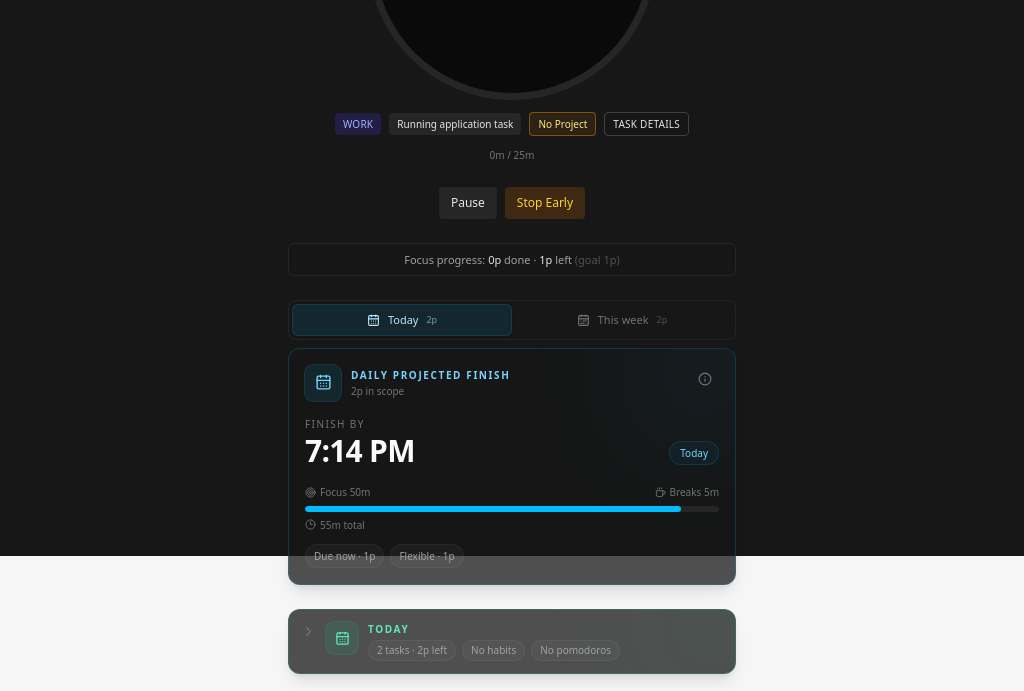
Scenario: TimerPanel today surface › opens details for a selected today task even while another task is running
The image size is (1024, 691).
(page scrolled)
Expected: the text "2 tasks · 2p left" is shown, x1=368 y1=640 x2=456 y2=661
Click the button "Today 2 tasks · 2p left No habits No pomodoros" at (512, 641), box x1=289 y1=610 x2=735 y2=673
(page scrolled)
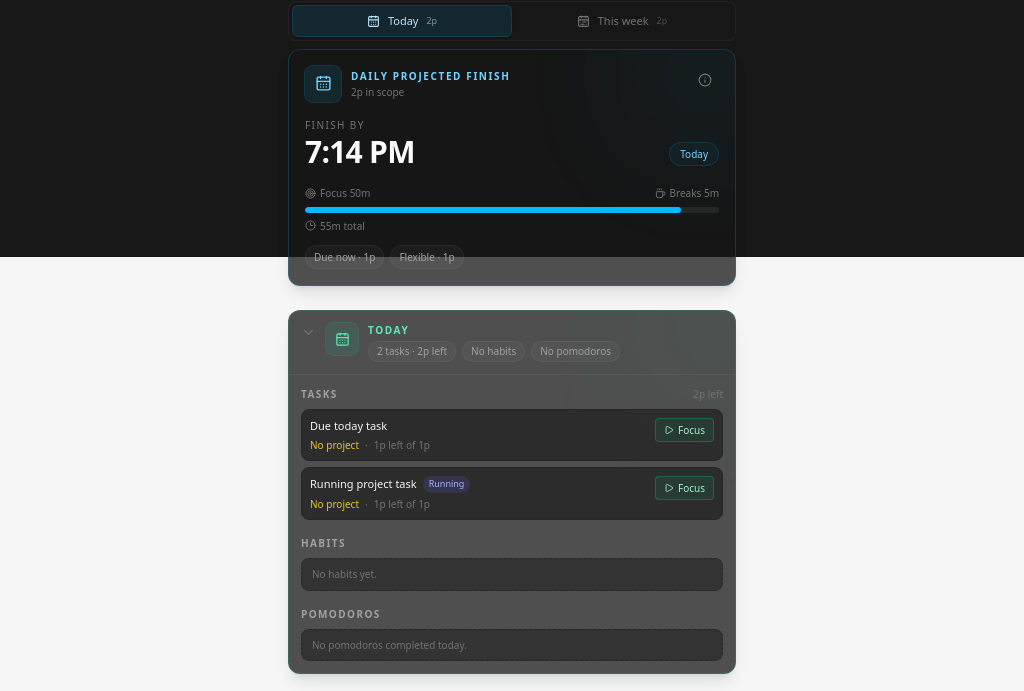
Click the button with aria-label "Select Due today task" at (349, 425), box x1=310 y1=418 x2=647 y2=452
(page scrolled)
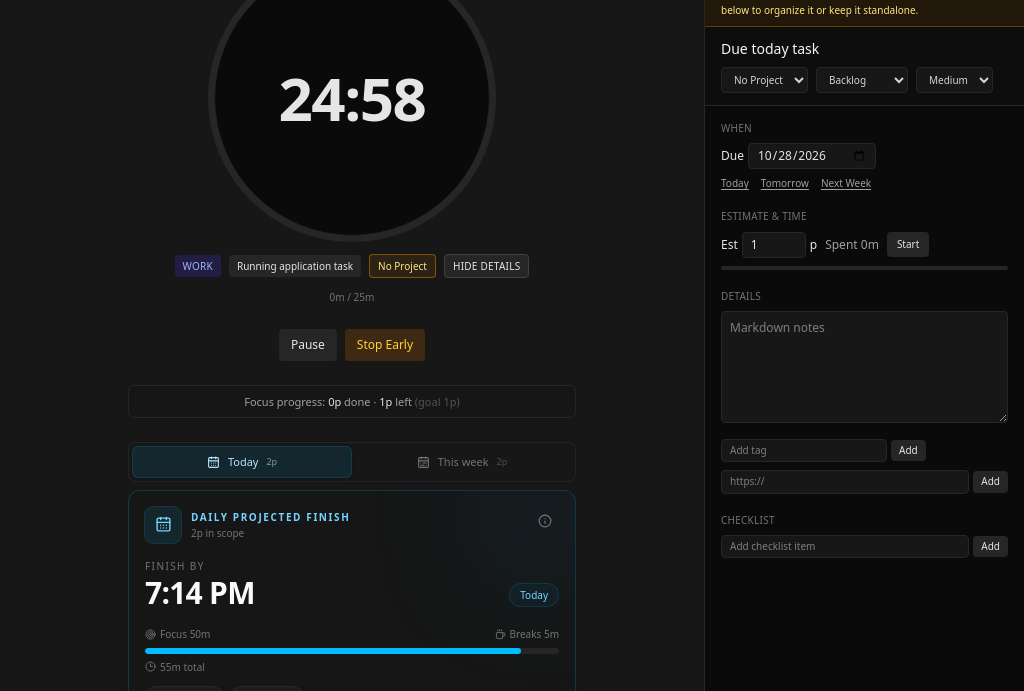
Expected: the text "Running project task" is not shown
Result: the text "Due today task" is shown at x1=721 y1=39 x2=819 y2=58
